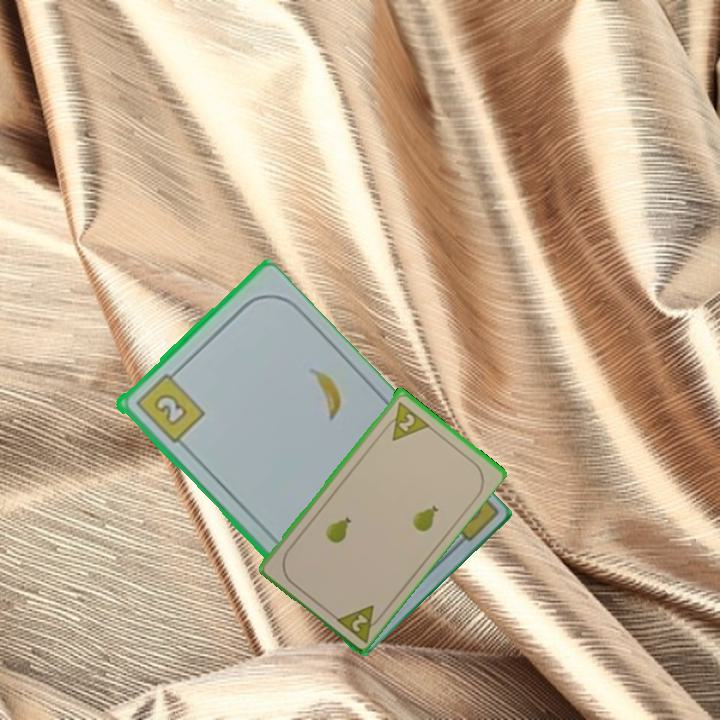2b: (131, 365, 207, 446)
2p: (331, 600, 387, 645), (378, 397, 431, 443)
